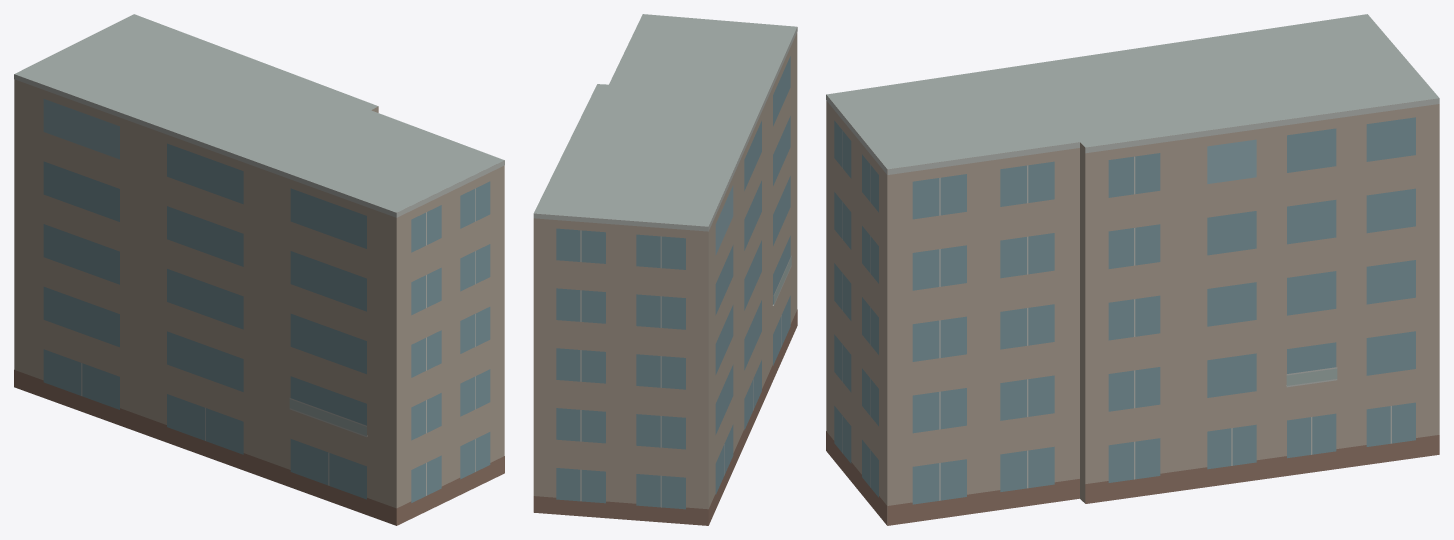
Rendered from survey-upis-32691000.glb.
3 views of the same model, side by side, from view 1: azimuth 30°, elevation 25°; view 2: azimuth 150°, elevation 25°; view 3: azimuth 270°, elevation 25° (orthographic). The views are drawn at different scales.
Visible parts, largest first — view 1: survey-upis-32691000.tmp; view 2: survey-upis-32691000.tmp; view 3: survey-upis-32691000.tmp.
Part boxes in pixels (box(x1,y1,x2,y2)): survey-upis-32691000.tmp: box(14, 14, 504, 525); survey-upis-32691000.tmp: box(533, 14, 797, 525); survey-upis-32691000.tmp: box(826, 14, 1439, 525).
Size of the model in its own units: 14.22 by 15.2 by 23.72.
